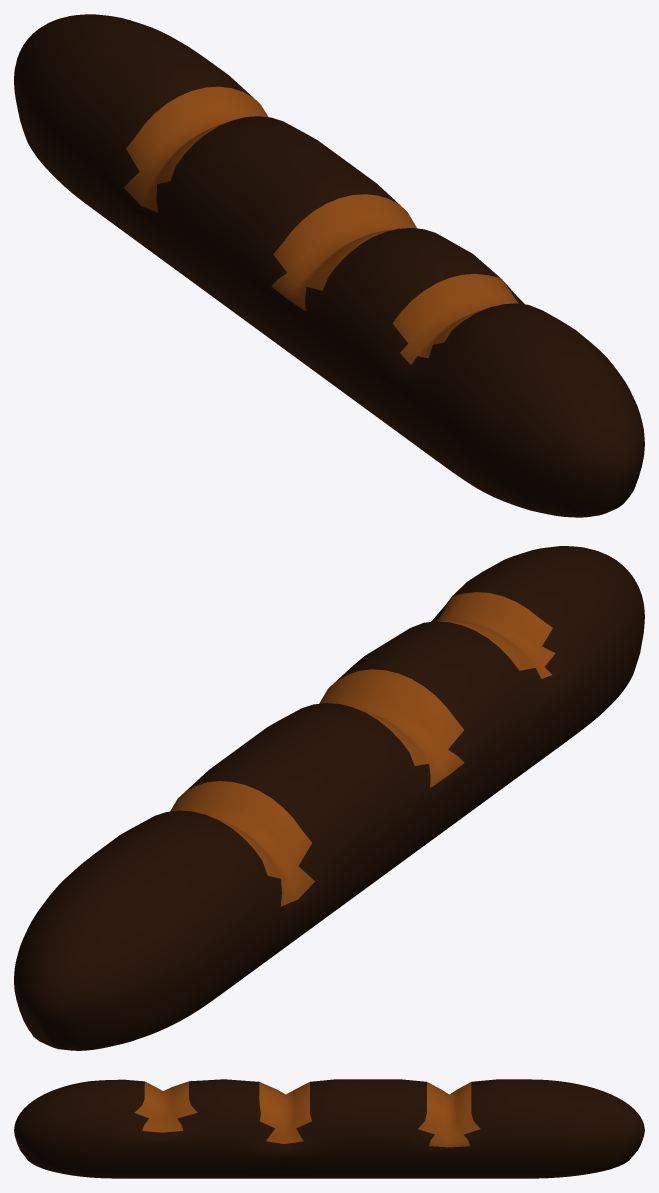
Rendered from baguette.FBX.
3 views of the same model, one above another, from view 1: azimuth 30°, elevation 25°; view 2: azimuth 150°, elevation 25°; view 3: azimuth 270°, elevation 25° (orthographic). The views are drawn at different scales.
Visible parts, largest first — view 1: Capsule001; view 2: Capsule001; view 3: Capsule001.
Boxes of the visible parts, <box> form: Capsule001: <box>14,14,644,517</box>; Capsule001: <box>14,546,644,1050</box>; Capsule001: <box>14,1079,644,1178</box>.
Size of the model in its own units: 16.2 by 14.85 by 98.65.
